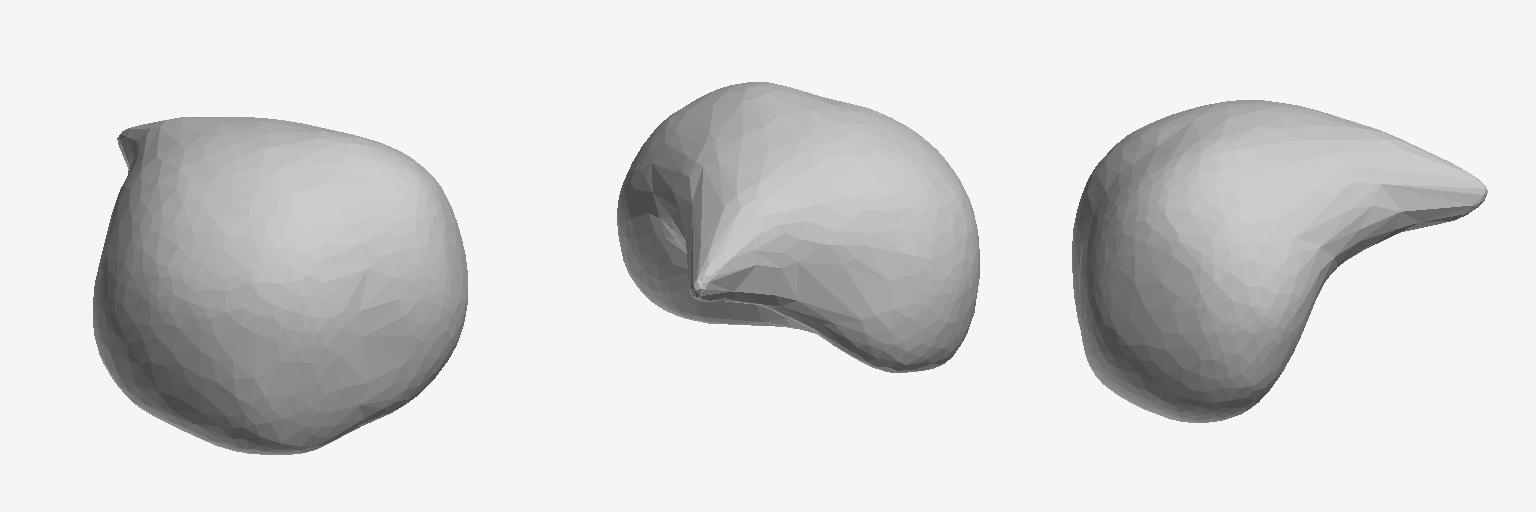
Rendered from Amygdala1.obj.
3 renders of one model, left to right at view 1: azimuth 30°, elevation 25°; view 2: azimuth 150°, elevation 25°; view 3: azimuth 270°, elevation 25°, orthographic.
Parts seen in each view (by area): view 1: obj0; view 2: obj0; view 3: obj0.
Boxes of the visible parts, x1=… form: obj0: x1=93, y1=117, x2=467, y2=454; obj0: x1=617, y1=82, x2=979, y2=372; obj0: x1=1072, y1=100, x2=1487, y2=422.
Bounding box in the file's own units: 8.26 × 6.21 × 8.86.